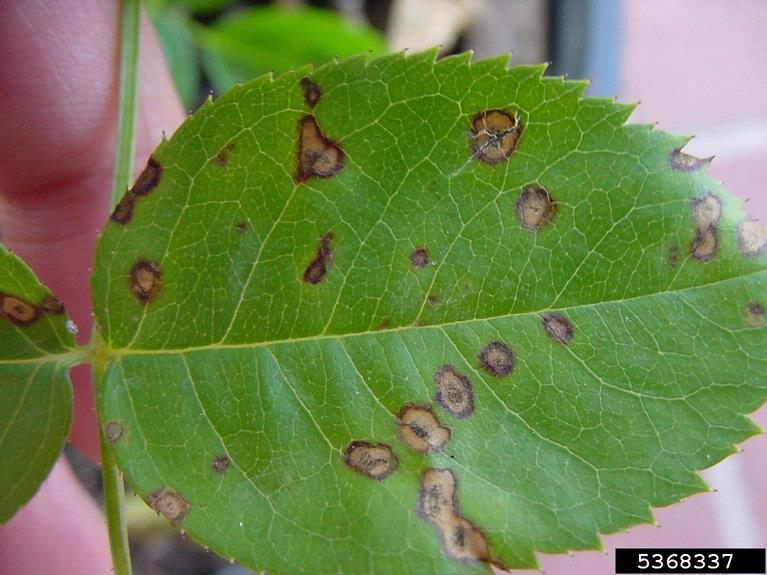unhealthy: (80, 45, 719, 515)
